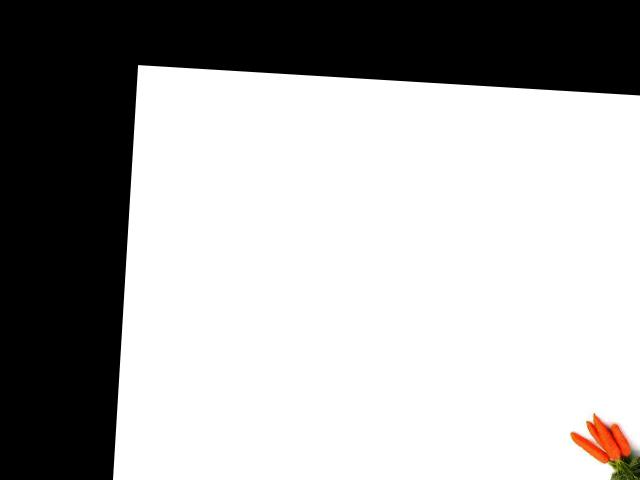carrot: (613, 423, 633, 457)
